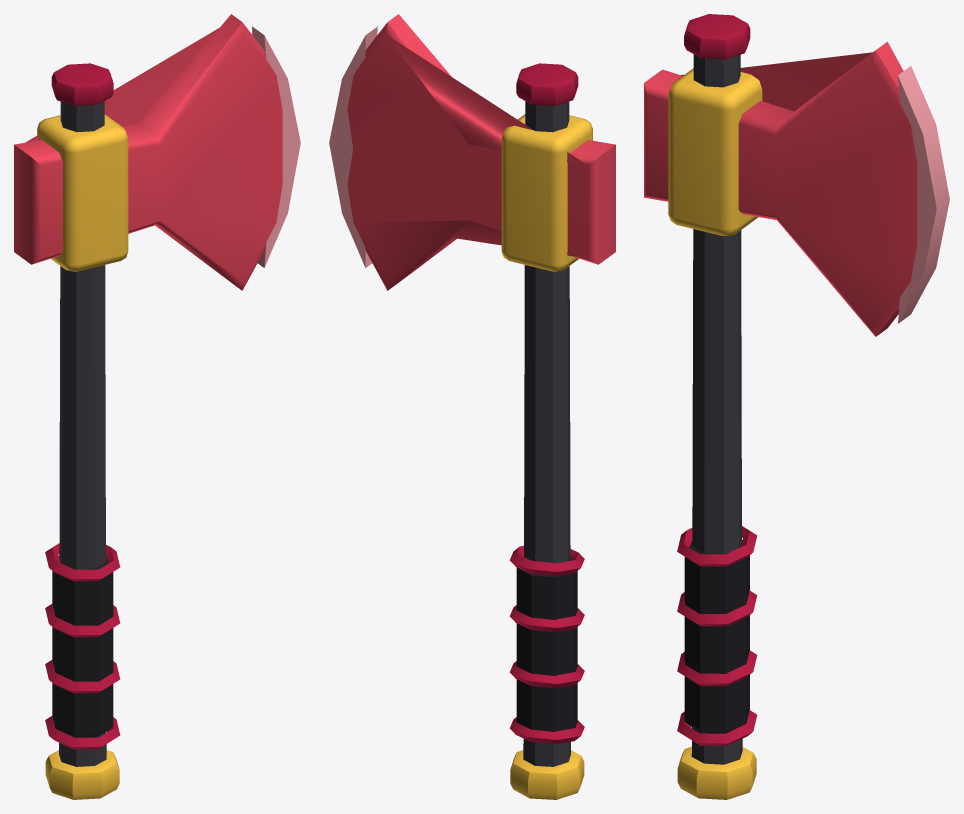
The model's file is RubyAxe.fbx.
3 renders of one model, left to right at view 1: azimuth 30°, elevation 25°; view 2: azimuth 150°, elevation 25°; view 3: azimuth 330°, elevation 25°, orthographic. The views are drawn at different scales.
Visible parts, largest first — view 1: RubyAxe; view 2: RubyAxe; view 3: RubyAxe.
Boxes of the visible parts, x1,y1,x2,y2 form: RubyAxe: (14, 14, 300, 799); RubyAxe: (329, 14, 615, 799); RubyAxe: (644, 14, 949, 799).
Size of the model in its own units: 1.27 by 3.27 by 0.3129.
1 material, 1 textured.
